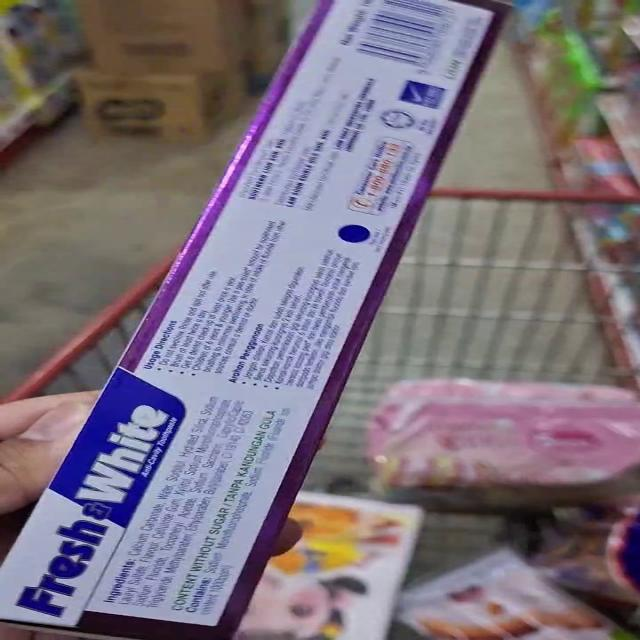Tisu: (288, 477, 419, 640)
Ubat Gigi: (59, 194, 393, 432), (216, 0, 516, 256), (0, 373, 281, 639)
